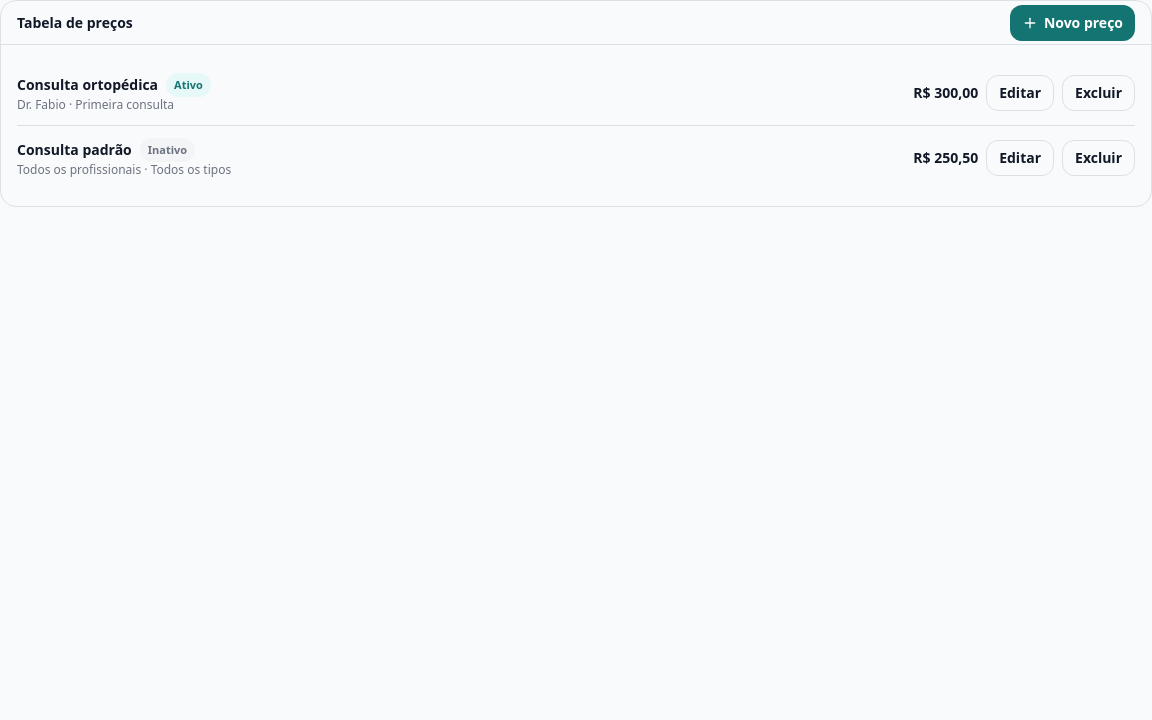
ServicePricesSection › edita um preço existente já preenchido
Click the button with aria-label "Editar Consulta ortopédica" at (1020, 93), box [986,75,1054,111]
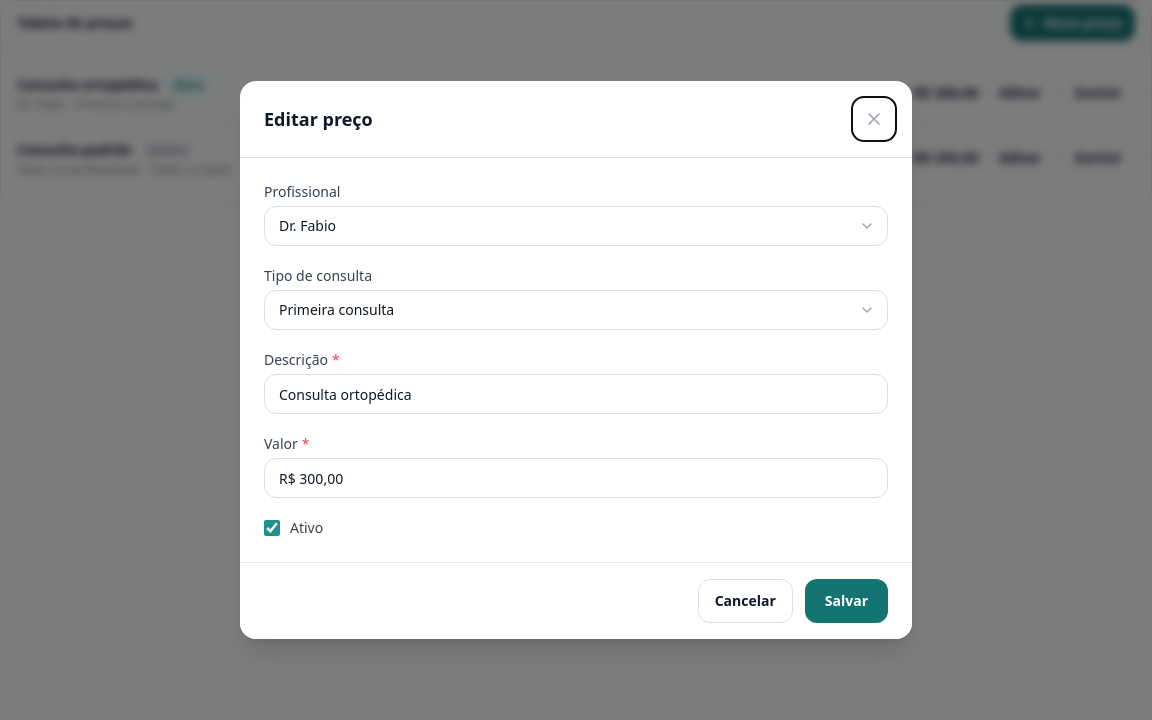
Check: the field labelled "Valor*" holds "R$ 300,00", box [264,458,888,498]
Click the checkbox labelled "Ativo" at (272, 528), box [264,520,280,536]
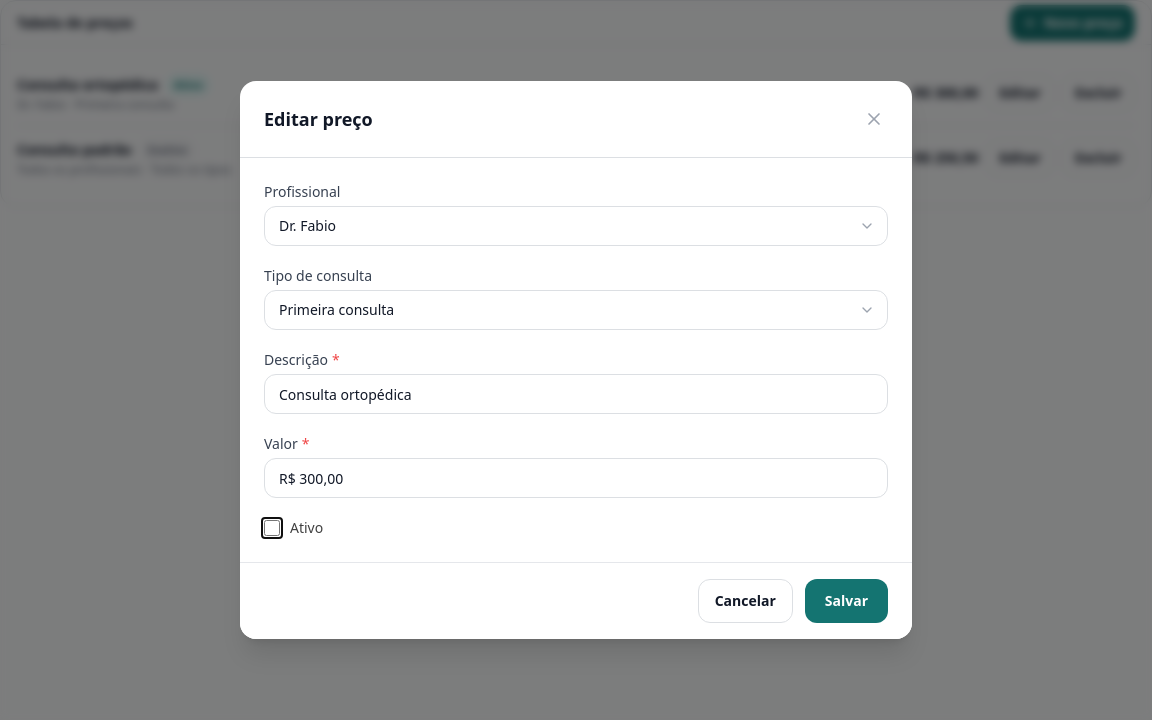
Click the button "Salvar" at (846, 601), box [805,579,888,623]
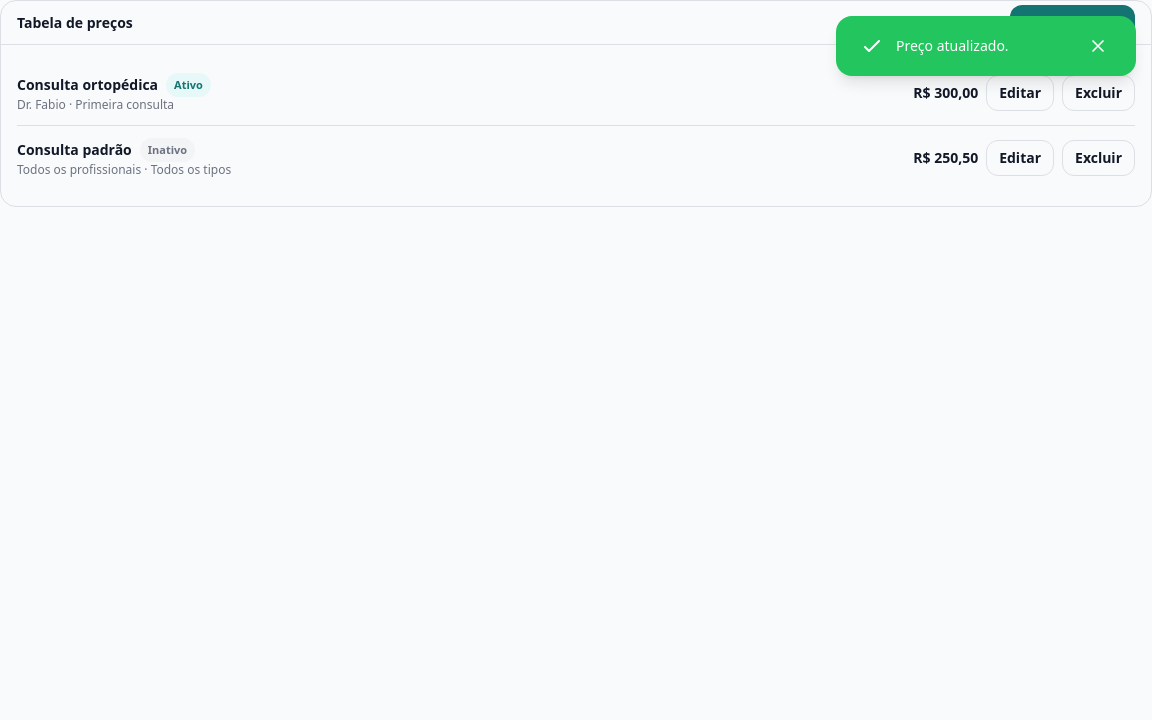
Check: the text "Preço atualizado." is shown, box [896,36,1009,55]
